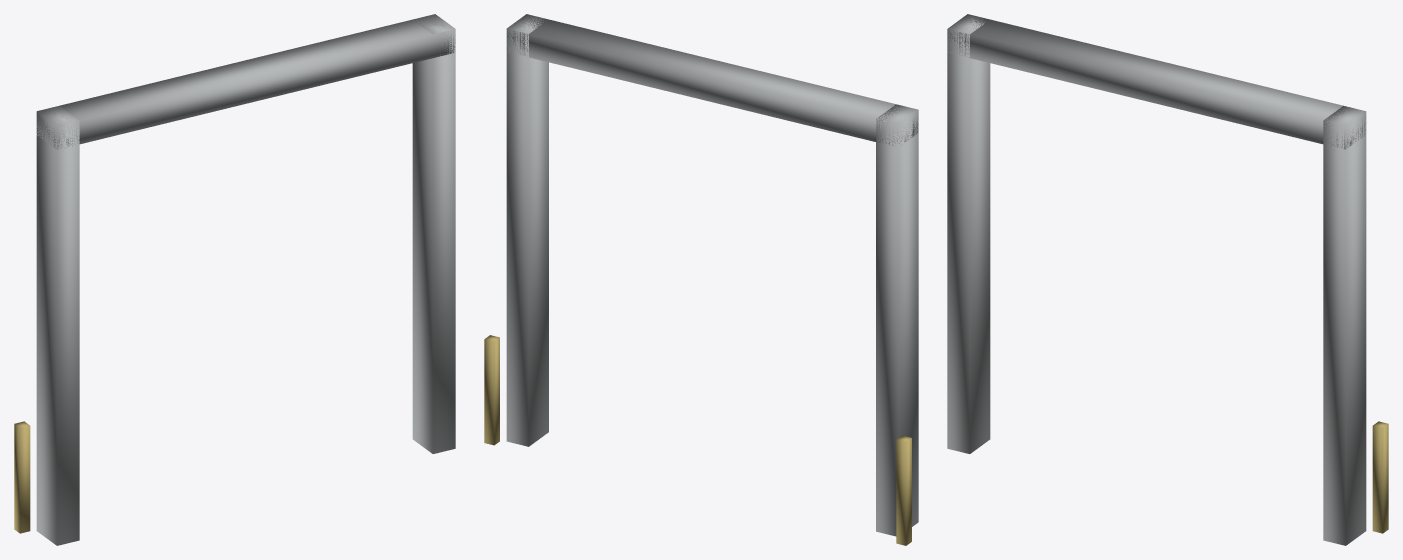
File: freight_shaft_industrial_w280_h300_d28.glb
The picture shows the model from 3 angles, left to right: view 1: azimuth 30°, elevation 25°; view 2: azimuth 150°, elevation 25°; view 3: azimuth 330°, elevation 25°; orthographic projection.
Parts seen in each view (by area): view 1: world; view 2: world; view 3: world.
Part boxes in pixels (x1=…): world: x1=14, y1=14, x2=455, y2=545; world: x1=484, y1=14, x2=918, y2=545; world: x1=947, y1=14, x2=1388, y2=545.
Bounding box in the file's own units: 3.4 × 3.18 × 0.38.
